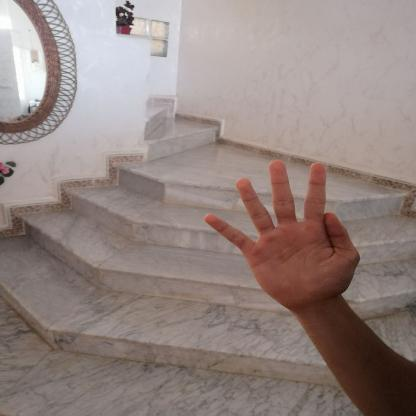SHEEN: (193, 150, 369, 322)
